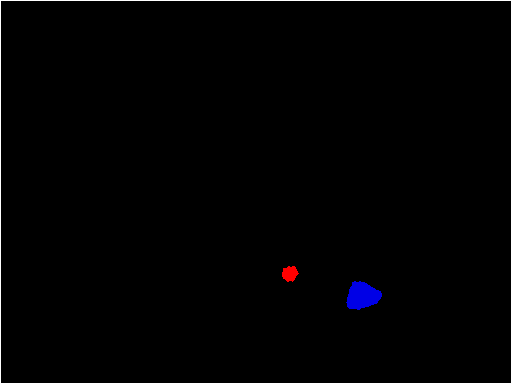chipped: (349, 287, 375, 308)
detached: (282, 265, 295, 282)
